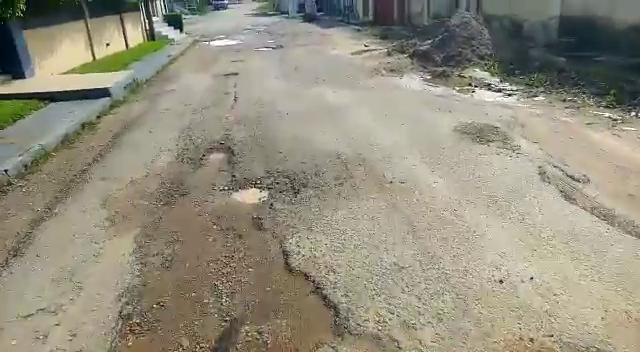pothole: (229, 174, 297, 208), (200, 145, 237, 165)
